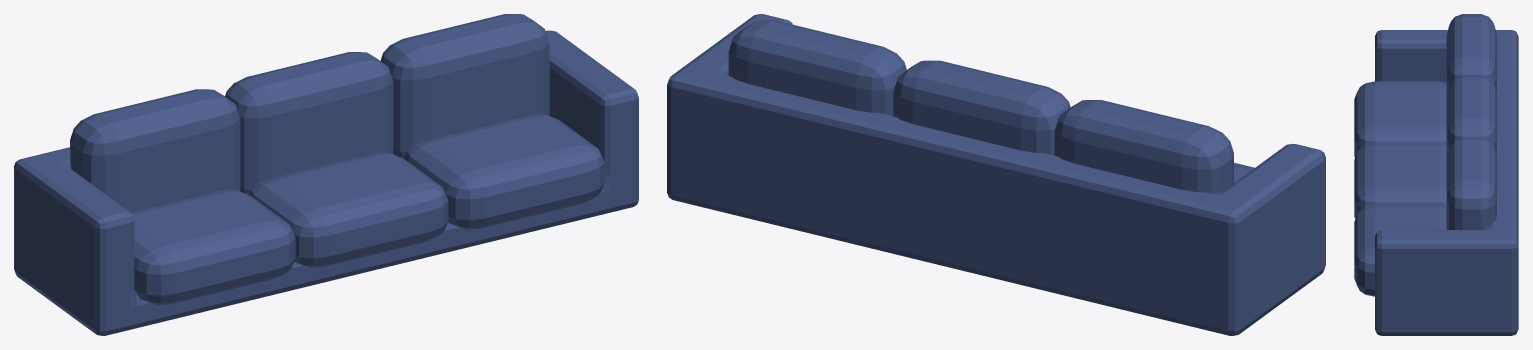
File: Sofa D.glb
3 renders of one model, left to right at view 1: azimuth 30°, elevation 25°; view 2: azimuth 150°, elevation 25°; view 3: azimuth 270°, elevation 25°, orthographic. The views are drawn at different scales.
Visible parts, largest first — view 1: Sofa D; view 2: Sofa D; view 3: Sofa D.
Part boxes in pixels (x1,y1,x2,y2): Sofa D: (14,14,638,335); Sofa D: (667,14,1325,335); Sofa D: (1354,14,1518,335).
Size of the model in its own units: 1285 by 367 by 414.
